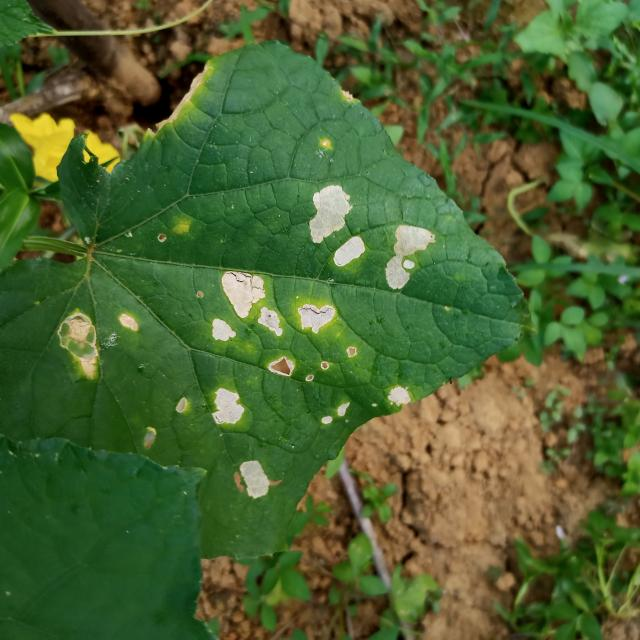disease_cucumber: (210, 273, 338, 378), (56, 307, 140, 379), (304, 184, 368, 267), (382, 221, 437, 294), (211, 386, 245, 426), (239, 458, 270, 500), (318, 398, 358, 426), (384, 384, 411, 409)
